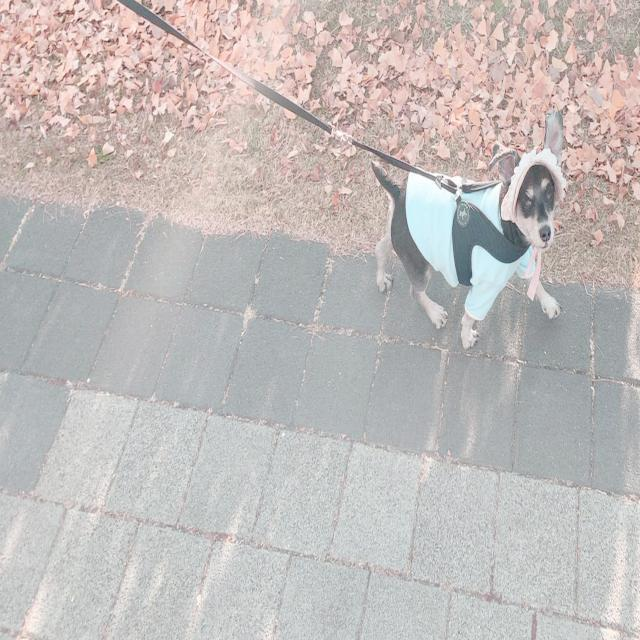Dog: (369, 106, 569, 353)
